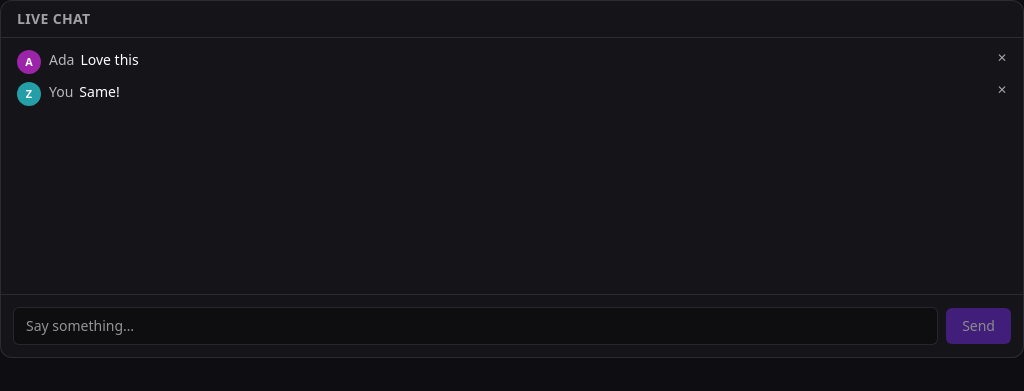
LiveChat › shows the server's message if deleting fails and keeps the comment
The width and height of the screenshot is (1024, 391).
Expected: the text "Love this" is shown, 80,50 -> 139,69
Click the button named "Delete comment".
click(1002, 58)  # box 997,50 -> 1007,66
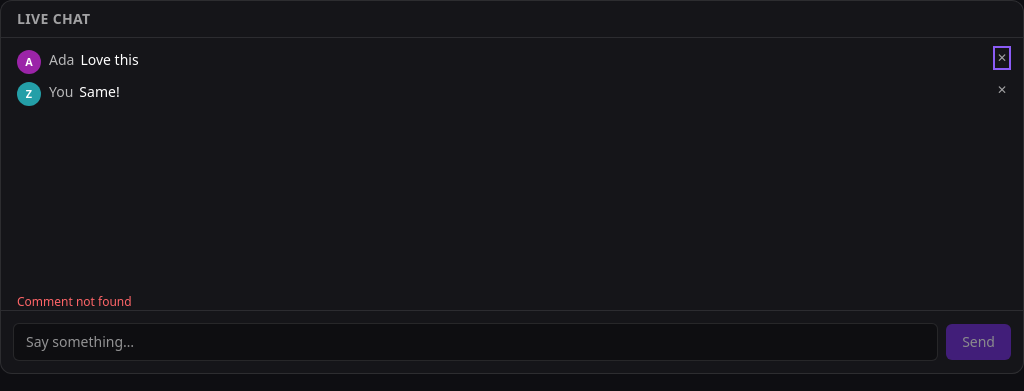
Expected: the text "Love this" is shown, 80,50 -> 139,69
Result: the text "Comment not found" is shown at 17,293 -> 132,310
